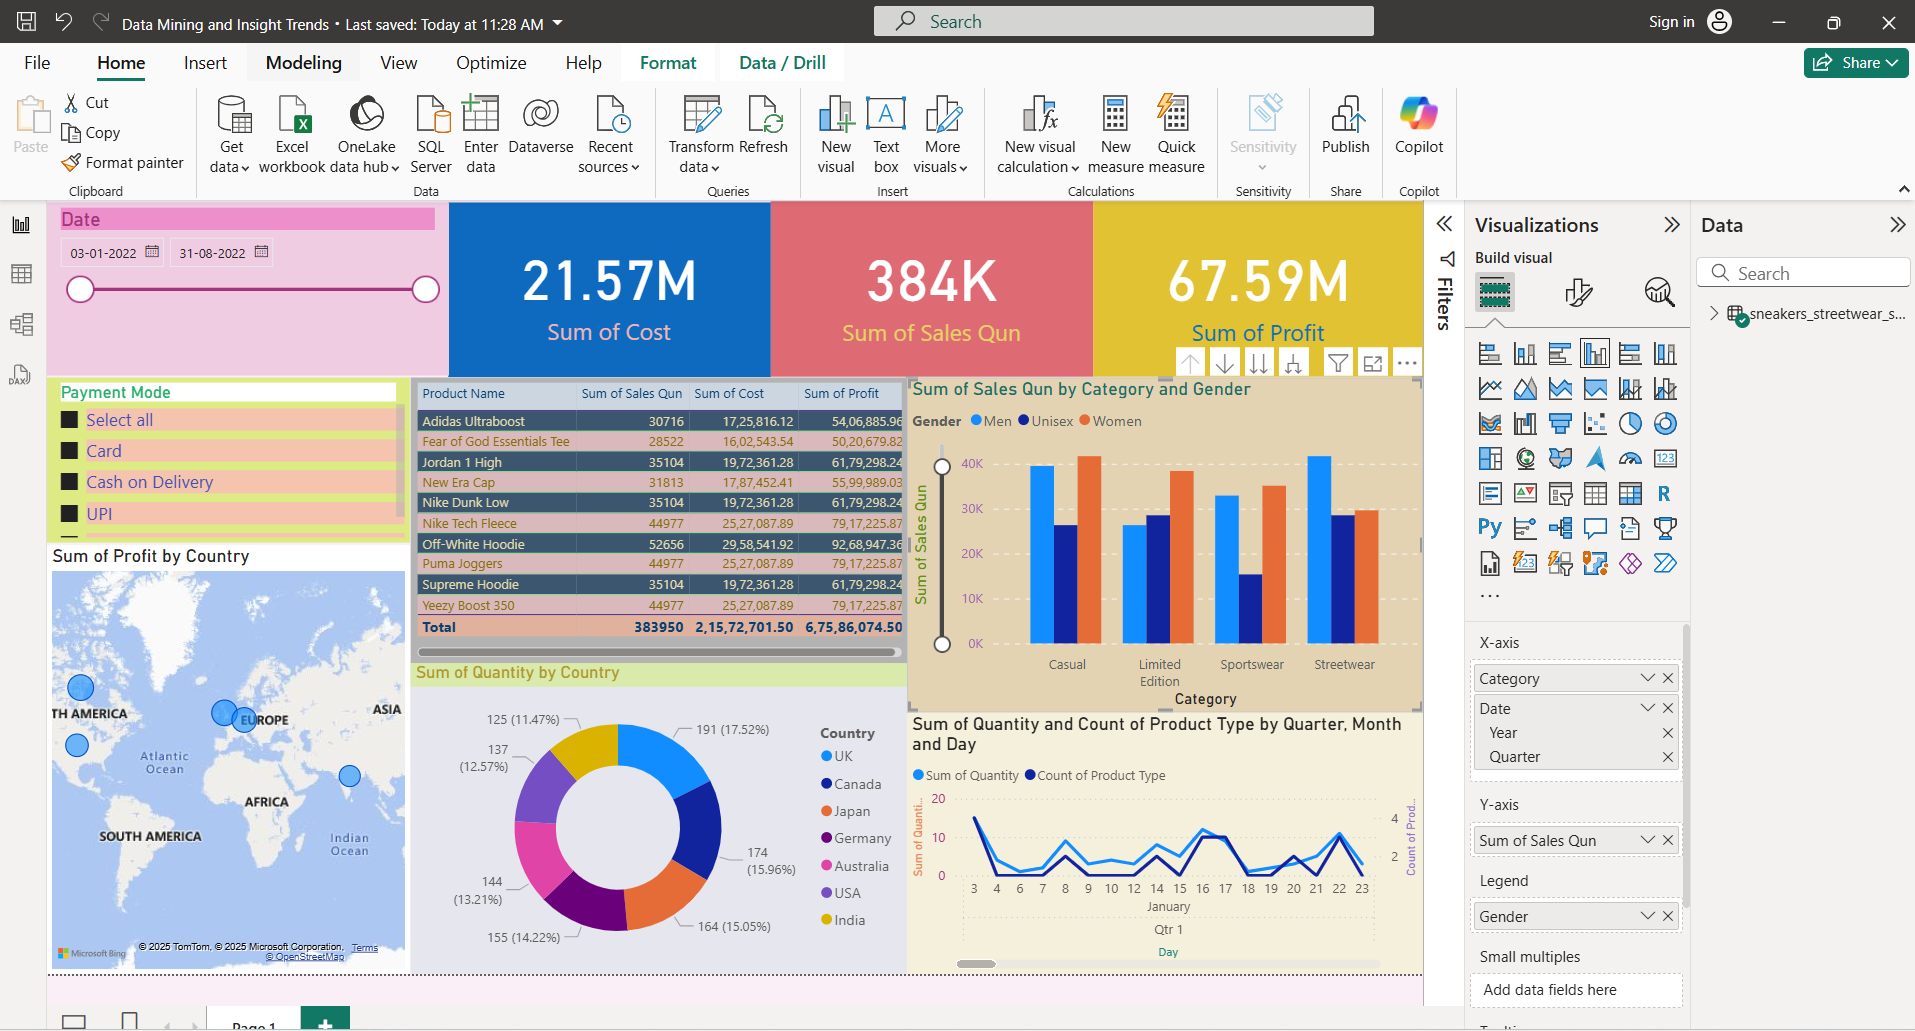

The page's visual inventory and layout, read from the dashboard file:
{"tool":"powerbi","page":{"name":"Page 1","canvas":[1280,720],"ordinal":0},"visuals":[{"type":"card","fields":{"Values":["Sum(sneakers_streetwear_sales_data.Sum of Sales Quantity)"]},"box":[673.3,1.2,299.8,163.4],"z":0},{"type":"card","fields":{"Values":["Sum(sneakers_streetwear_sales_data.Sum of Cost Unit Price)"]},"box":[373.5,2.5,299.8,162.2],"z":1000},{"type":"card","fields":{"Values":["Sum(sneakers_streetwear_sales_data.Sum of Profit Amount)"]},"box":[973.1,1.2,307.2,163.4],"z":2000},{"type":"clusteredColumnChart","fields":{"Category":["sneakers_streetwear_sales_data.Category","sneakers_streetwear_sales_data.Date.Variation.Date Hierarchy.Year","sneakers_streetwear_sales_data.Date.Variation.Date Hierarchy.Quarter"],"Y":["Sum(sneakers_streetwear_sales_data.Sales Qun)"],"Series":["sneakers_streetwear_sales_data.Gender"]},"box":[800,165.1,480.2,311.6],"z":3000},{"type":"lineChart","fields":{"Category":["sneakers_streetwear_sales_data.Date.Variation.Date Hierarchy.Quarter","sneakers_streetwear_sales_data.Date.Variation.Date Hierarchy.Month","sneakers_streetwear_sales_data.Date.Variation.Date Hierarchy.Day"],"Y2":["CountNonNull(sneakers_streetwear_sales_data.Product Type)"],"Y":["Sum(sneakers_streetwear_sales_data.Quantity)"]},"box":[799.8,476.7,480.4,243.3],"z":4000},{"type":"donutChart","fields":{"Y":["Sum(sneakers_streetwear_sales_data.Quantity)"],"Category":["sneakers_streetwear_sales_data.Country"]},"box":[337.9,430,462,290],"z":5000},{"type":"tableEx","fields":{"Values":["sneakers_streetwear_sales_data.Product Name","Sum(sneakers_streetwear_sales_data.Sales Quantity)","Sum(sneakers_streetwear_sales_data.Cost Unit Price)","Sum(sneakers_streetwear_sales_data.Profit Amount)"]},"box":[337.9,164.6,462,265.4],"z":6000},{"type":"map","fields":{"Category":["sneakers_streetwear_sales_data.Country"],"Size":["Sum(sneakers_streetwear_sales_data.Profit)"]},"box":[0,320.7,337.9,399.3],"z":7000},{"type":"slicer","fields":{"Values":["sneakers_streetwear_sales_data.Payment Mode"]},"box":[0,164.6,337.9,153.6],"z":8000},{"type":"slicer","fields":{"Values":["sneakers_streetwear_sales_data.Date"]},"box":[0,2.5,373.5,161],"z":9000}]}

Visuals, with their boxes on the page's 1280x720 design canvas (x1, y1, x2, y2). These are canvas units, not pixel positions in the 1915x1031 screenshot, which may show the page scaled, cropped or inside an application window:
card - Sum(sneakers_streetwear_sales_data.Sum of Sales Quantity): BBox(673, 1, 973, 165)
card - Sum(sneakers_streetwear_sales_data.Sum of Cost Unit Price): BBox(374, 2, 673, 165)
card - Sum(sneakers_streetwear_sales_data.Sum of Profit Amount): BBox(973, 1, 1280, 165)
clusteredColumnChart - sneakers_streetwear_sales_data.Category x sneakers_streetwear_sales_data.Date.Variation.Date Hierarchy.Year: BBox(800, 165, 1280, 477)
lineChart - sneakers_streetwear_sales_data.Date.Variation.Date Hierarchy.Quarter x sneakers_streetwear_sales_data.Date.Variation.Date Hierarchy.Month: BBox(800, 477, 1280, 720)
donutChart - Sum(sneakers_streetwear_sales_data.Quantity) x sneakers_streetwear_sales_data.Country: BBox(338, 430, 800, 720)
tableEx - sneakers_streetwear_sales_data.Product Name x Sum(sneakers_streetwear_sales_data.Sales Quantity): BBox(338, 165, 800, 430)
map - sneakers_streetwear_sales_data.Country x Sum(sneakers_streetwear_sales_data.Profit): BBox(0, 321, 338, 720)
slicer - sneakers_streetwear_sales_data.Payment Mode: BBox(0, 165, 338, 318)
slicer - sneakers_streetwear_sales_data.Date: BBox(0, 2, 374, 164)
